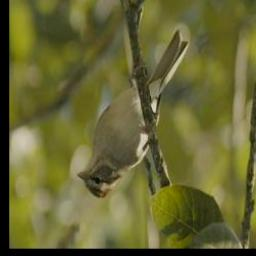Sparrow: (75, 29, 189, 202)
